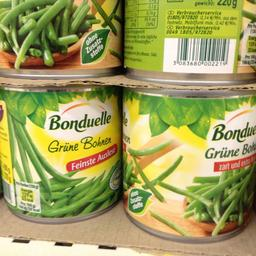beans: (118, 84, 254, 242), (0, 86, 120, 223), (124, 0, 254, 85), (0, 0, 121, 74)
